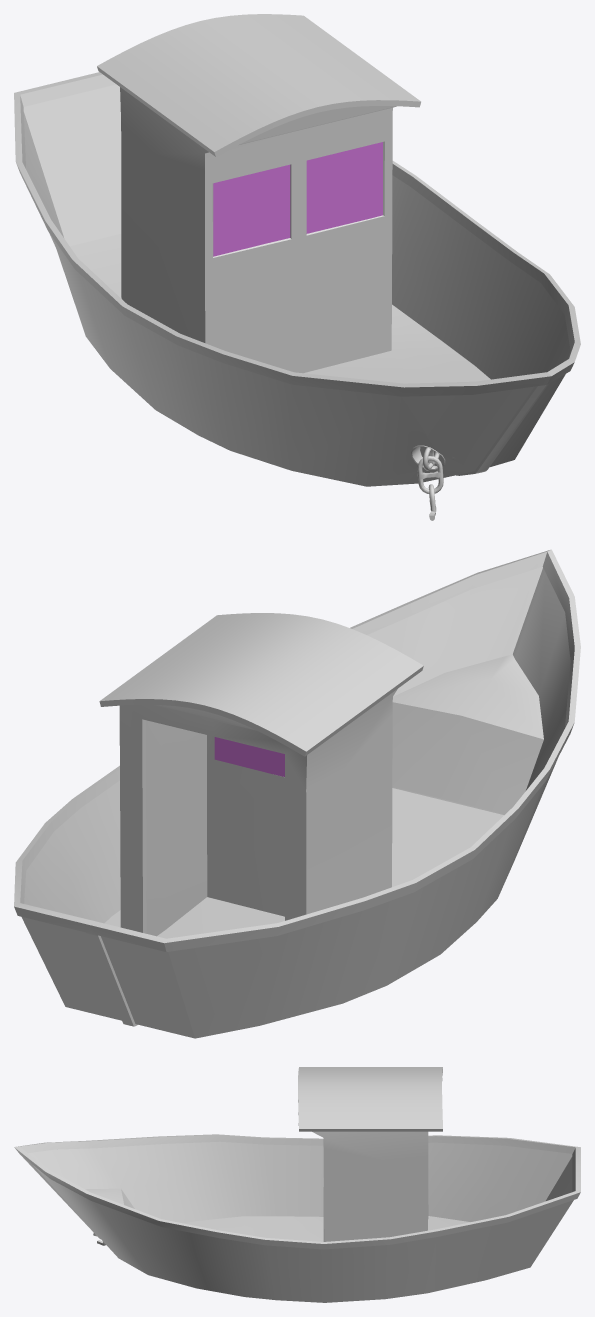
The model's file is ship.fbx.
3 renders of one model, top to bottom at view 1: azimuth 30°, elevation 25°; view 2: azimuth 150°, elevation 25°; view 3: azimuth 270°, elevation 25°, orthographic. The views are drawn at different scales.
Parts seen in each view (by area): view 1: Cube; view 2: Cube; view 3: Cube.
Part boxes in pixels (<box>): Cube: <box>14,14,580,520</box>; Cube: <box>14,549,580,1038</box>; Cube: <box>14,1067,580,1302</box>.
Size of the model in its own units: 485 by 377 by 1101.
